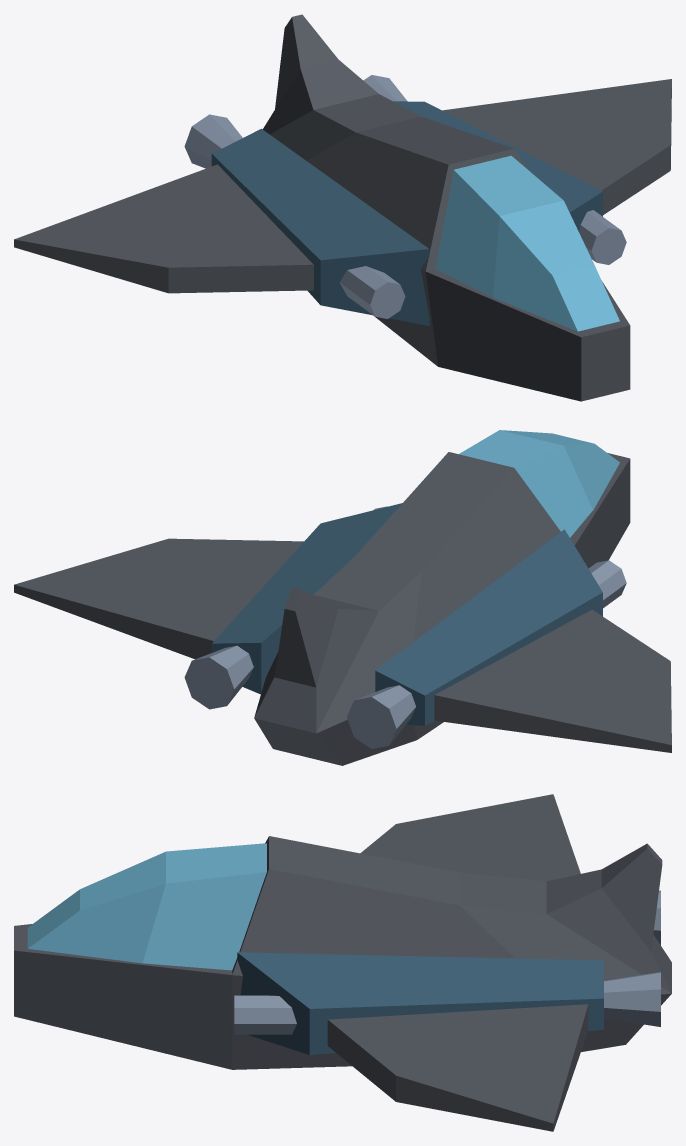
File: PlayerShip_0 - old.fbx
3 views of the same model, one above another, from view 1: azimuth 30°, elevation 25°; view 2: azimuth 150°, elevation 25°; view 3: azimuth 270°, elevation 25° (orthographic). The views are drawn at different scales.
Parts seen in each view (by area): view 1: Cube, Cube.005, Cube.001, Cube.002, Cube.003, Cube.004, Cylinder.001, Cylinder.002, Cylinder, Cylinder.003; view 2: Cube, Cube.005, Cube.003, Cube.002, Cube.004, Cube.001, Cylinder.003, Cylinder.002, Cylinder.001; view 3: Cube, Cube.003, Cube.004, Cube.001, Cube.005, Cylinder.003, Cylinder.
Boxes of the visible parts, <box> form: Cube: <box>262,14,630,401</box>; Cube.005: <box>14,164,313,293</box>; Cube.001: <box>435,155,619,331</box>; Cube.002: <box>211,128,429,325</box>; Cube.003: <box>442,79,671,214</box>; Cube.004: <box>393,101,602,232</box>; Cylinder.001: <box>339,266,405,318</box>; Cylinder.002: <box>184,114,242,168</box>; Cylinder: <box>579,210,626,264</box>; Cylinder.003: <box>363,75,407,101</box>; Cube: <box>254,452,630,765</box>; Cube.005: <box>434,609,671,752</box>; Cube.003: <box>14,538,303,659</box>; Cube.002: <box>375,529,602,725</box>; Cube.004: <box>211,503,402,694</box>; Cube.001: <box>459,430,619,537</box>; Cylinder.003: <box>184,645,253,709</box>; Cylinder.002: <box>347,685,415,748</box>; Cylinder.001: <box>588,560,626,608</box>; Cube: <box>14,836,671,1069</box>; Cube.003: <box>327,1004,588,1131</box>; Cube.004: <box>237,952,603,1054</box>; Cube.001: <box>27,843,266,970</box>; Cube.005: <box>360,794,580,881</box>; Cylinder.003: <box>604,971,660,1026</box>; Cylinder: <box>234,995,296,1034</box>.
Bounding box in the file's own units: 1072 × 293 × 904.
